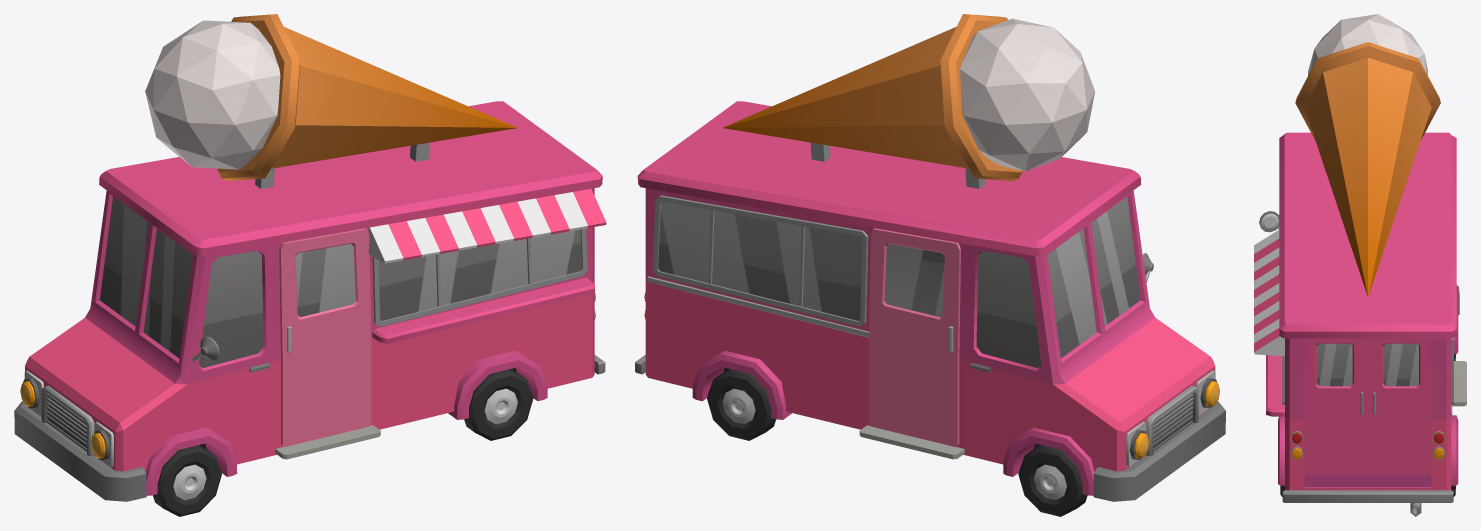
The model's file is IceTruck_2_C.gltf.
3 renders of one model, left to right at view 1: azimuth 30°, elevation 25°; view 2: azimuth 150°, elevation 25°; view 3: azimuth 270°, elevation 25°, orthographic. The views are drawn at different scales.
Parts seen in each view (by area): view 1: IceTruck_2_C, RL, FL; view 2: IceTruck_2_C, RR, FR; view 3: IceTruck_2_C.
Boxes of the visible parts, <box> form: IceTruck_2_C: <box>14,14,606,501</box>; RL: <box>464,369,533,440</box>; FL: <box>153,445,221,516</box>; IceTruck_2_C: <box>635,14,1225,501</box>; RR: <box>707,369,775,440</box>; FR: <box>1018,445,1087,516</box>; IceTruck_2_C: <box>1254,14,1466,516</box>.
Size of the model in its own units: 4.16 by 3.43 by 1.76.
4 materials, 4 textured.
